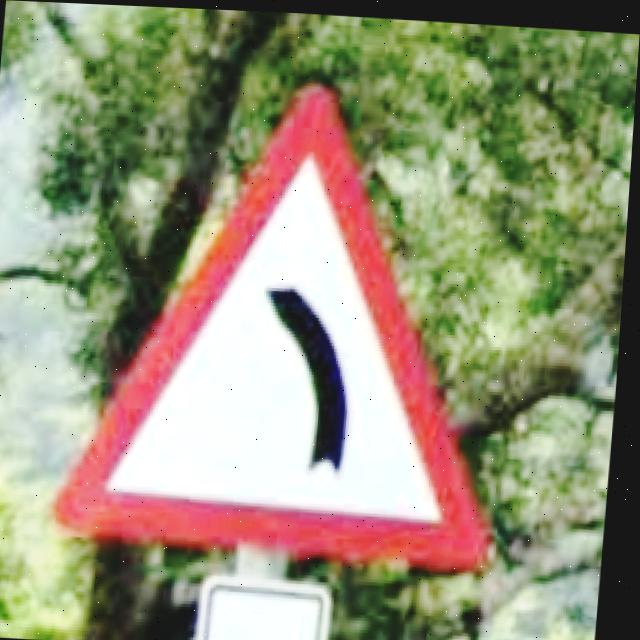leftbend: (59, 83, 499, 569)
